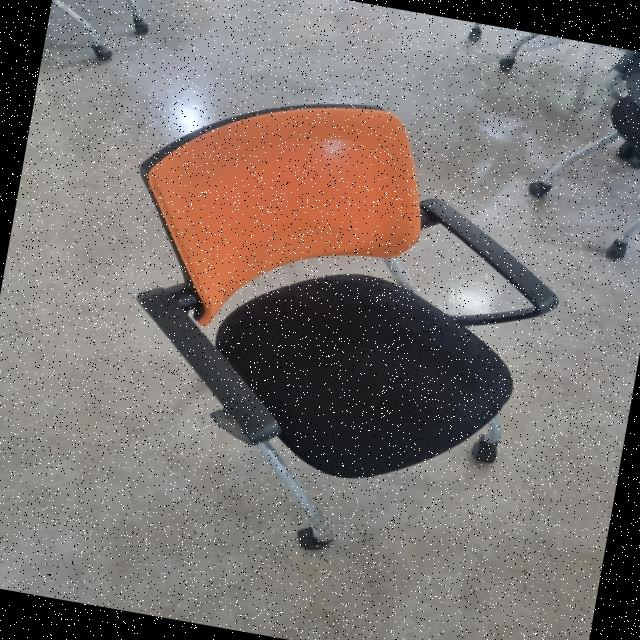Chair: (0, 43, 625, 609)
